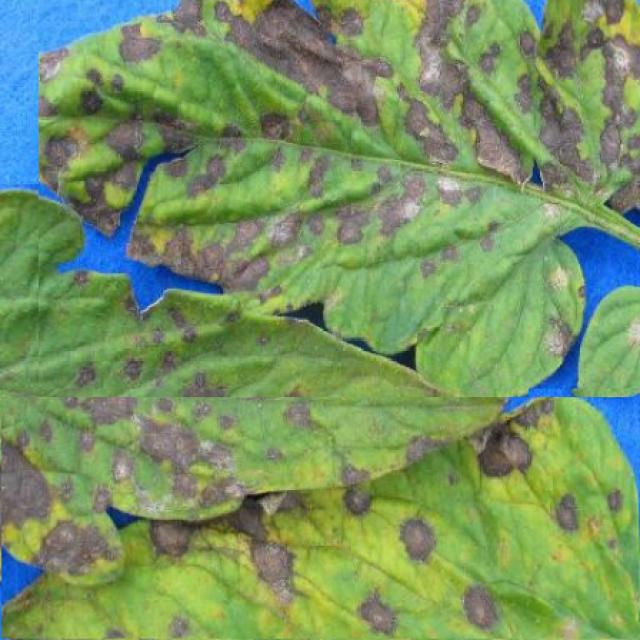Septoria: (38, 0, 640, 388), (1, 185, 528, 588), (2, 397, 639, 639)
